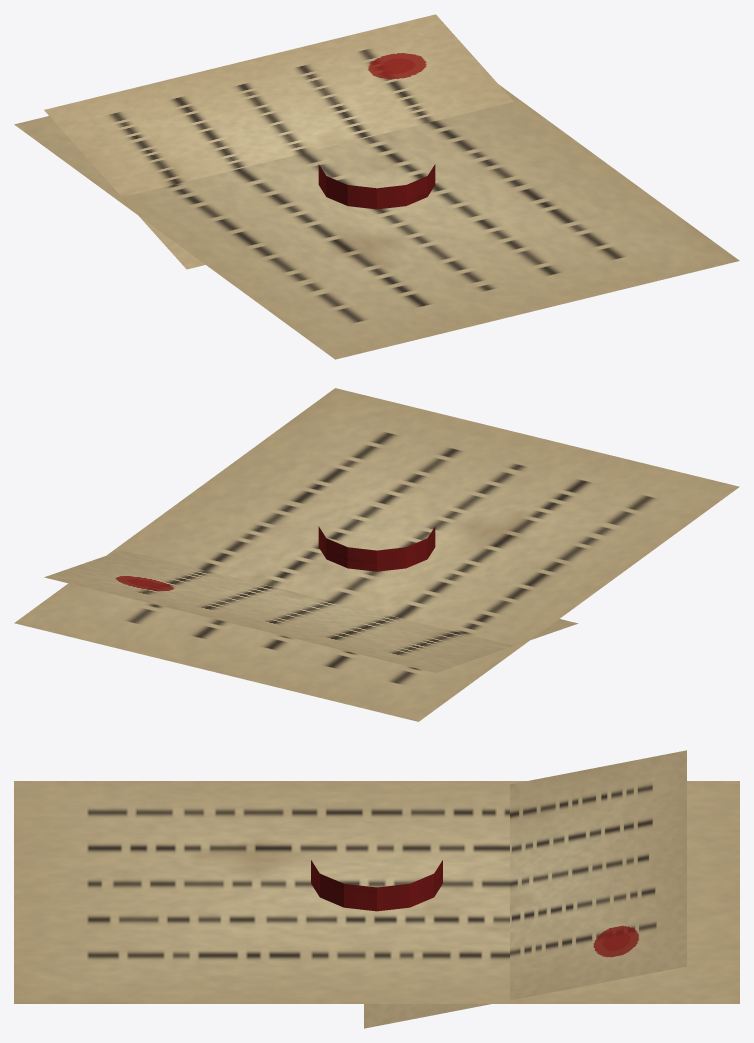
File: letter.glb
3 renders of one model, top to bottom at view 1: azimuth 30°, elevation 25°; view 2: azimuth 150°, elevation 25°; view 3: azimuth 270°, elevation 25°, orthographic. The views are drawn at different scales.
Visible parts, largest first — view 1: Paper, Flap, Seal; view 2: Paper, Flap, Seal; view 3: Paper, Flap, Seal.
Boxes of the visible parts, box(x1,y1,x2,y2) form: Paper: box(14, 84, 739, 359); Flap: box(44, 14, 513, 269); Seal: box(318, 164, 435, 209); Paper: box(14, 388, 739, 721); Flap: box(44, 550, 578, 672); Seal: box(318, 526, 435, 571); Paper: box(14, 781, 739, 1003); Flap: box(364, 750, 686, 1028); Seal: box(311, 860, 442, 911).
Bounding box in the file's own units: 0.16 × 0.0208 × 0.22.
Materials: 3 (3 with a texture image).
